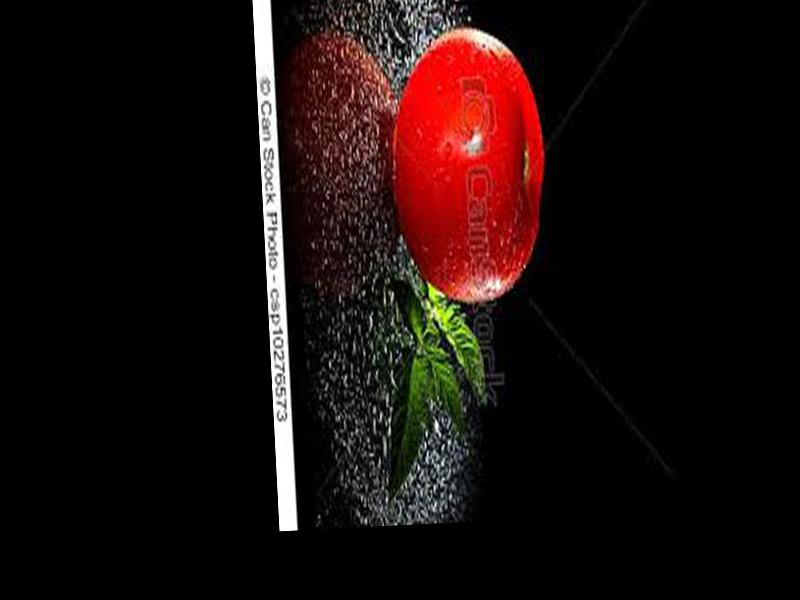Tomato: (386, 25, 551, 305)
